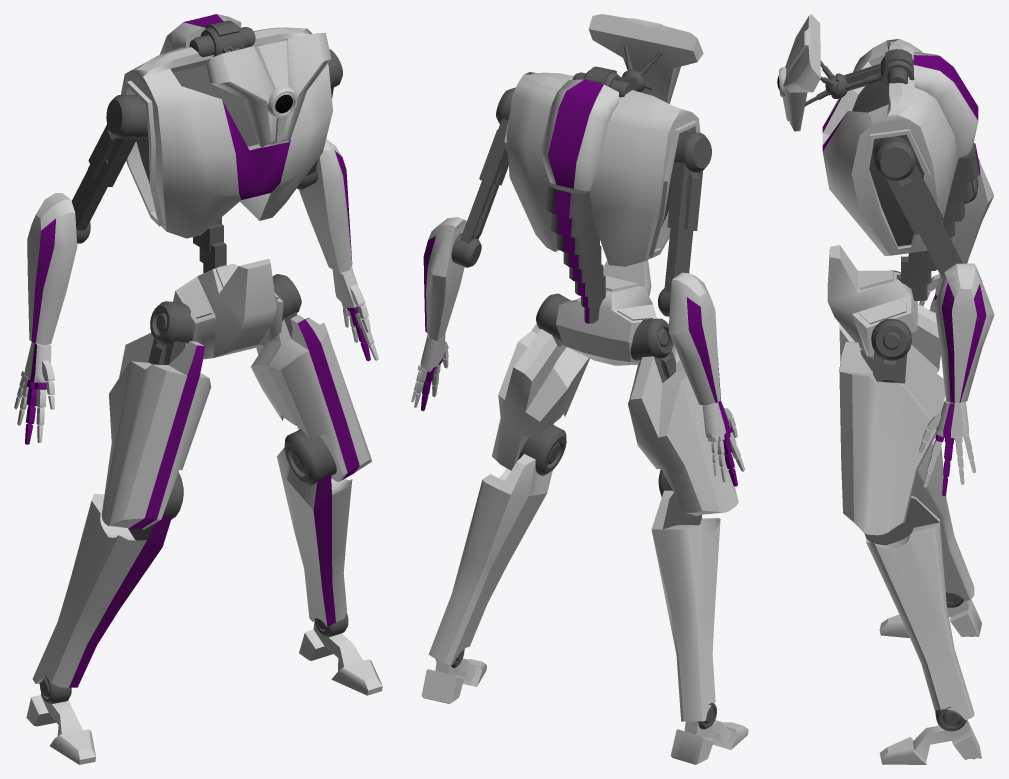
Rendered from RobotGuard_StandColor.fbx.
3 renders of one model, left to right at view 1: azimuth 30°, elevation 25°; view 2: azimuth 150°, elevation 25°; view 3: azimuth 270°, elevation 25°, orthographic. The views are drawn at different scales.
Visible parts, largest first — view 1: Chest, RThigh, RCalve, LThigh, LForearm_main (×2), LCalve, Pelvis, polySurface10, LShoulder, LFoot, RFoot, pCylinder11 (+3 smaller); view 2: Chest, RThigh, LCalve, RCalve, LForearm_main (×2), LThigh, Pelvis, polySurface10, LShoulder (×2), RFoot, LFoot, LShoulder1 (+7 smaller); view 3: Chest, LThigh, LCalve, LForearm_main (×2), Pelvis, LShoulder, RCalve, polySurface10, LFoot, RThigh, RFoot, pCylinder11 (+7 smaller).
Boxes of the visible parts, box(x1,y1,x2,y2) form: Chest: box(121, 14, 332, 238); RThigh: box(102, 301, 211, 529); RCalve: box(32, 472, 183, 687); LThigh: box(251, 274, 371, 481); LForearm_main (×2): box(27, 139, 352, 344); LCalve: box(277, 429, 352, 626); Pelvis: box(173, 258, 283, 359); polySurface10: box(206, 33, 331, 147); LShoulder: box(88, 95, 148, 186); LFoot: box(299, 612, 382, 695); RFoot: box(26, 675, 95, 764); pCylinder11: box(189, 20, 255, 57); Chest: box(504, 72, 700, 266); RThigh: box(627, 318, 738, 516); LCalve: box(428, 424, 566, 665); RCalve: box(651, 469, 720, 721); LForearm_main (×2): box(423, 217, 720, 405); LThigh: box(492, 293, 589, 470); Pelvis: box(556, 260, 656, 365); polySurface10: box(588, 14, 703, 103); LShoulder (×2): box(479, 87, 711, 230); RFoot: box(670, 703, 748, 764); LFoot: box(421, 649, 486, 703); LShoulder1: box(451, 171, 504, 267); Chest: box(822, 39, 978, 255); LThigh: box(839, 318, 945, 535); LCalve: box(864, 496, 974, 719); LForearm_main (×2): box(934, 157, 994, 402); Pelvis: box(827, 245, 917, 359); LShoulder: box(873, 136, 944, 235); RCalve: box(911, 434, 974, 600); polySurface10: box(782, 14, 820, 131); LFoot: box(879, 707, 981, 764); RThigh: box(839, 270, 940, 373); RFoot: box(879, 592, 981, 637); pCylinder11: box(844, 49, 914, 90).
Size of the model in its own units: 9.94 by 19.7 by 5.87.
